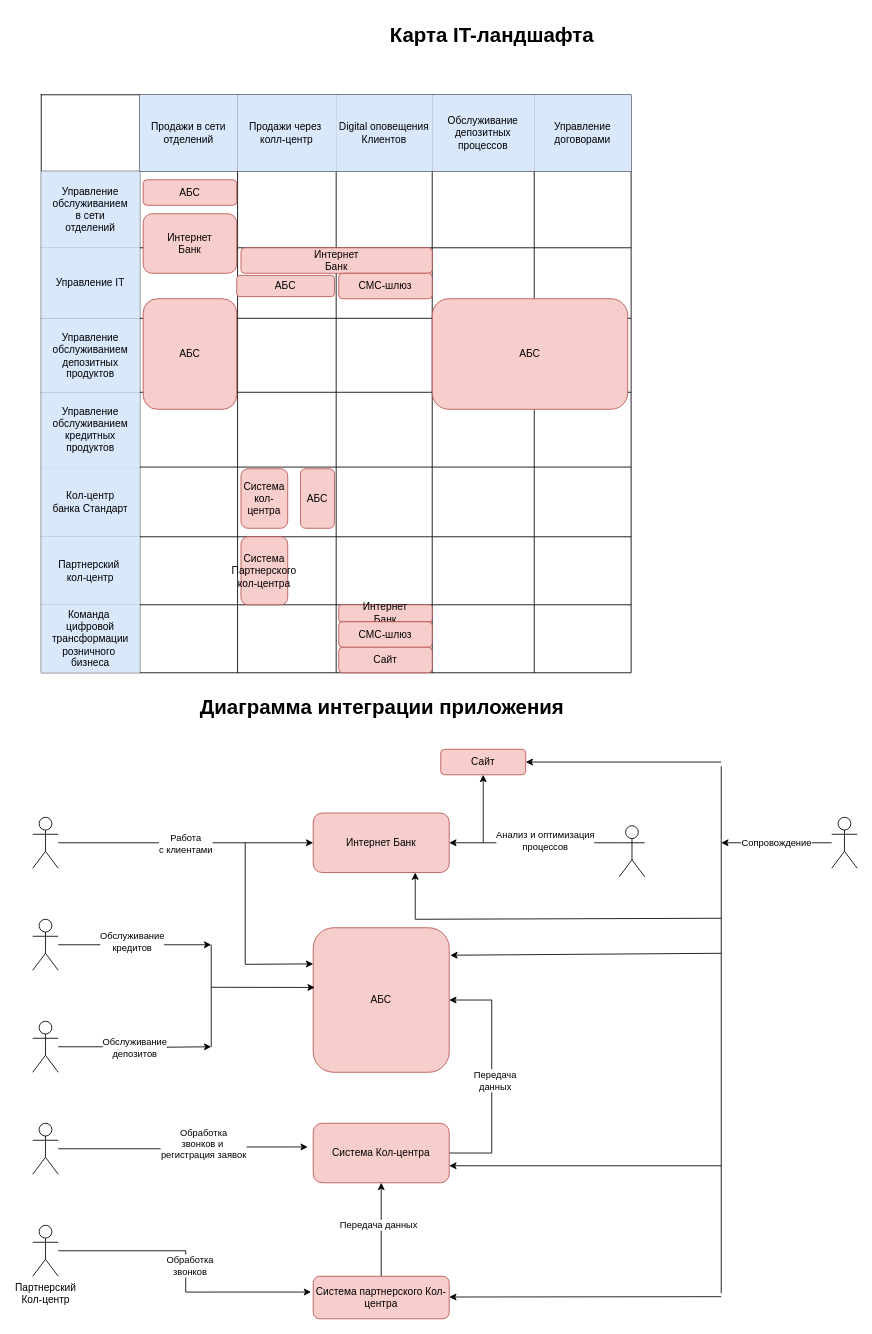
Some shapes in this 872 by 1334 pixel diagram are drawn without their labels. The shapes that lost their labels are listed below. From the top down, each one's centre as x and y in pixels, then its label:
At point (45, 842): "Фронт-офис отделений".
At point (631, 851): "Цифровая трансформация".
At point (844, 842): "IT".
At point (45, 944): "Бэк-офис кредитов".
At point (45, 1046): "Бэк-офис депозитов".
At point (45, 1148): "Кол-центр банка".
